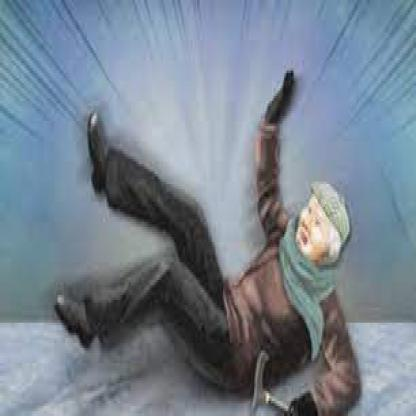Fall_Down: (52, 64, 363, 413)
